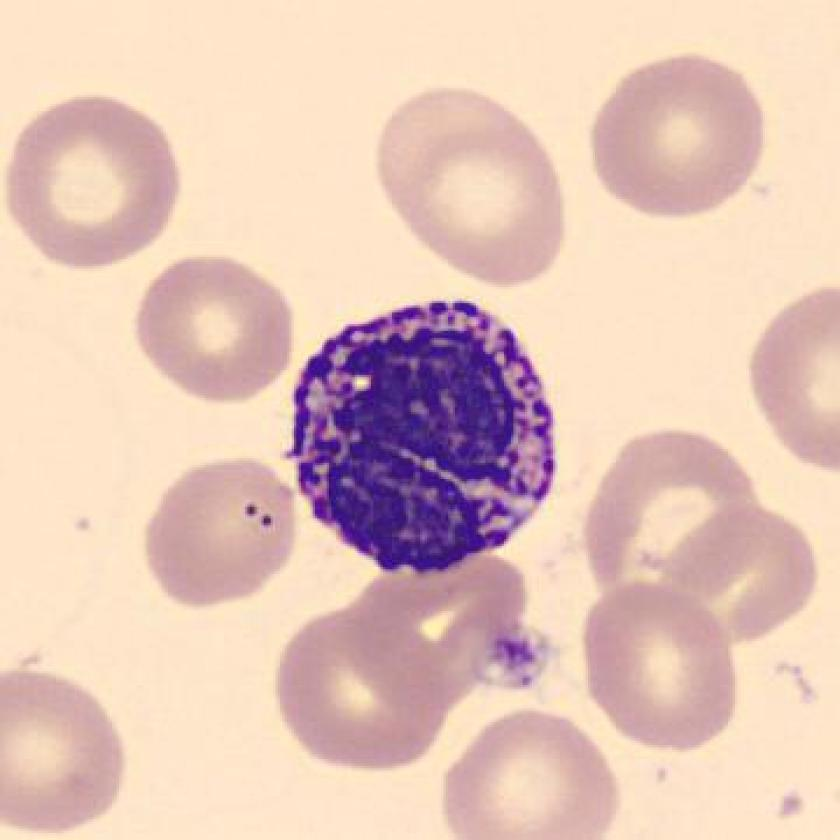basophil: (281, 290, 566, 577)
